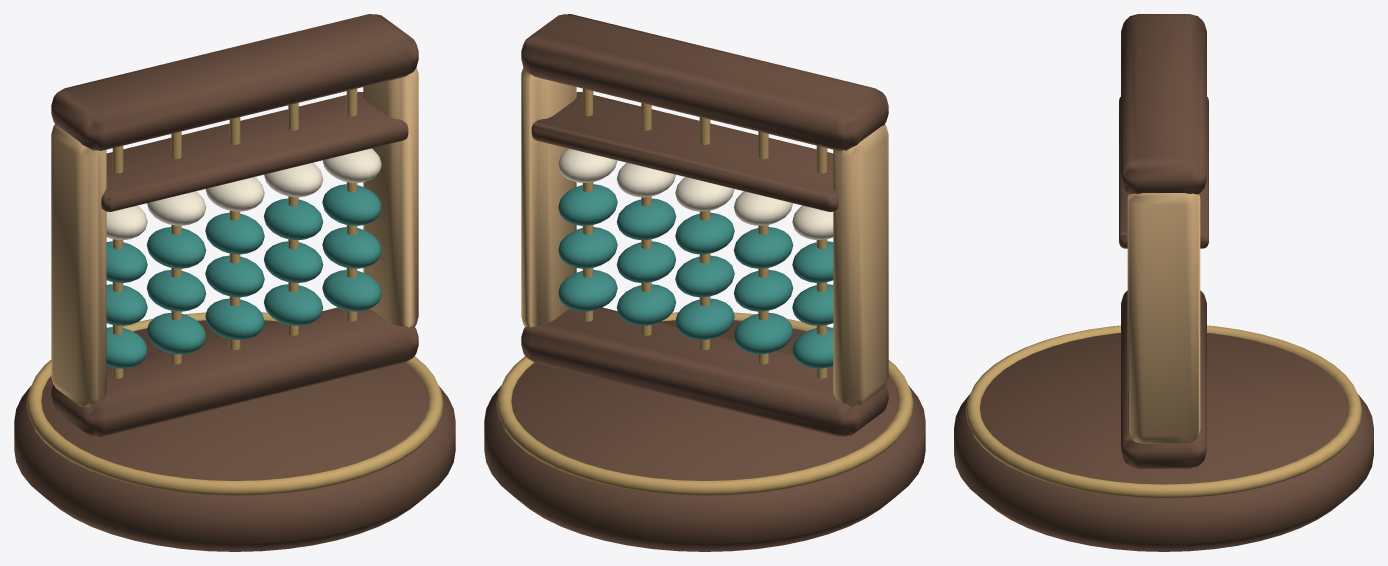
Rendered from bamboo.glb.
3 views of the same model, side by side, from view 1: azimuth 30°, elevation 25°; view 2: azimuth 150°, elevation 25°; view 3: azimuth 270°, elevation 25° (orthographic). The views are drawn at different scales.
Visible parts, largest first — view 1: bamboo_Walnut carved edge, bamboo_Glazed teal porcelain, bamboo_Golden bamboo grain, bamboo_Brushed champagne brass, bamboo_Porcelain warm ivory; view 2: bamboo_Walnut carved edge, bamboo_Glazed teal porcelain, bamboo_Golden bamboo grain, bamboo_Brushed champagne brass, bamboo_Porcelain warm ivory; view 3: bamboo_Walnut carved edge, bamboo_Golden bamboo grain, bamboo_Brushed champagne brass.
Boxes of the visible parts, box(x1,y1,x2,y2) form: bamboo_Walnut carved edge: box(14, 14, 455, 551); bamboo_Glazed teal porcelain: box(106, 184, 381, 368); bamboo_Golden bamboo grain: box(51, 67, 418, 406); bamboo_Brushed champagne brass: box(26, 88, 443, 495); bamboo_Porcelain warm ivory: box(106, 148, 381, 239); bamboo_Walnut carved edge: box(484, 14, 925, 551); bamboo_Glazed teal porcelain: box(558, 184, 833, 368); bamboo_Golden bamboo grain: box(521, 67, 888, 406); bamboo_Brushed champagne brass: box(496, 88, 913, 495); bamboo_Porcelain warm ivory: box(558, 148, 833, 239); bamboo_Walnut carved edge: box(954, 14, 1373, 551); bamboo_Golden bamboo grain: box(1127, 193, 1200, 443); bamboo_Brushed champagne brass: box(965, 325, 1362, 498).
Size of the model in its own units: 0.98 by 0.99 by 0.98.
